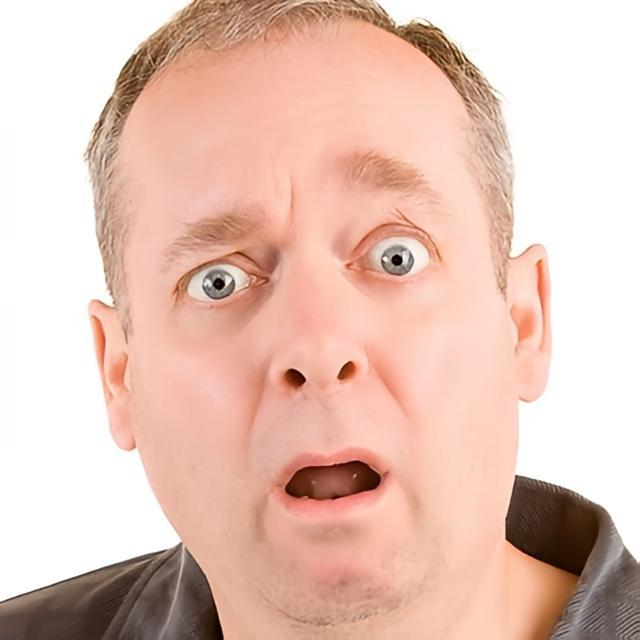fear: (132, 9, 519, 624)
